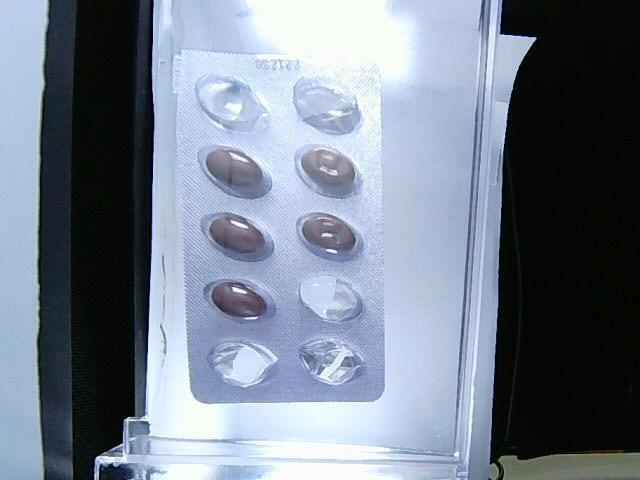Light Front: (173, 51, 387, 407)
No Pill Front: (195, 74, 268, 132), (293, 76, 361, 134), (208, 343, 278, 387), (299, 339, 365, 385), (300, 276, 362, 322)
Pill Front: (209, 215, 265, 253), (206, 148, 262, 185), (301, 148, 354, 186), (301, 215, 356, 251), (211, 283, 266, 318)
